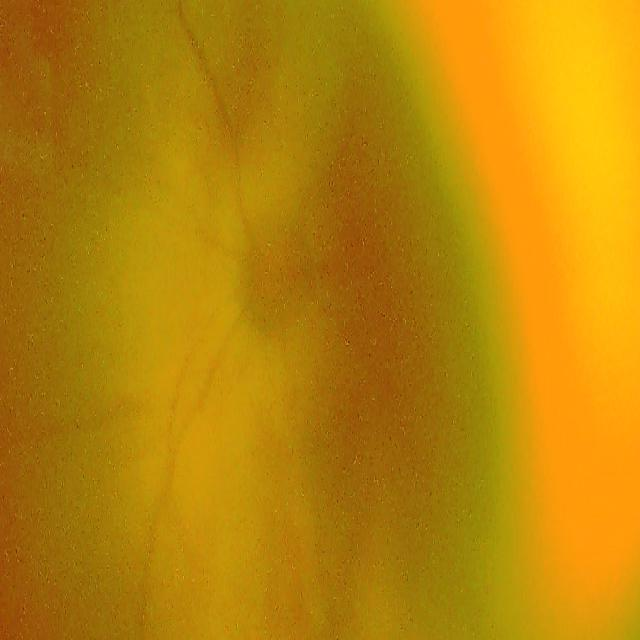optic-nerve: (234, 195, 328, 362)
